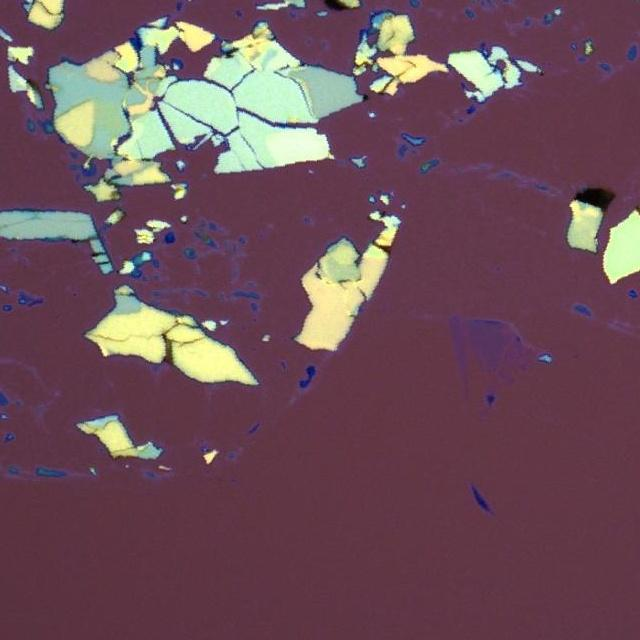monolayer-eWW4: (448, 317, 526, 388)
